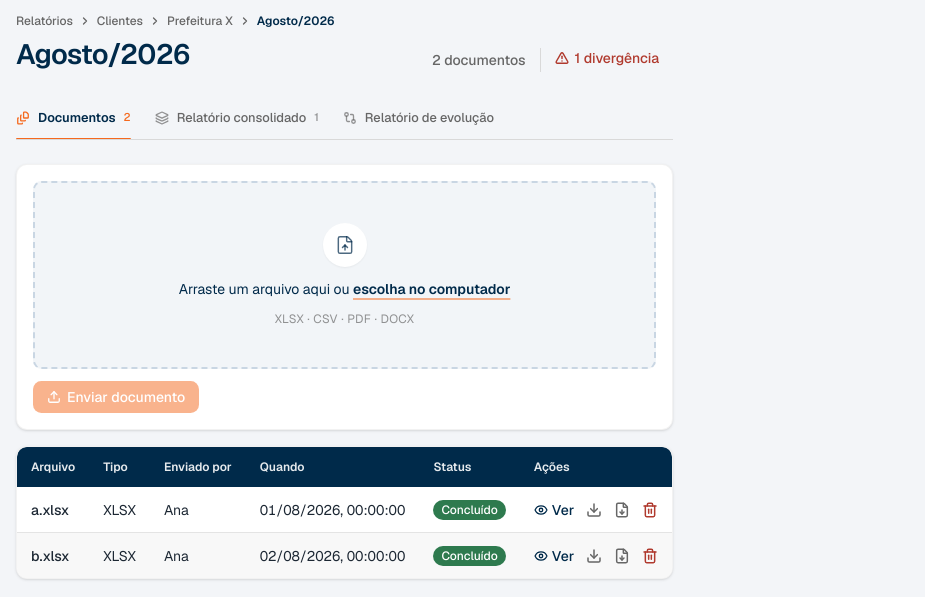
Test case: ClienteCompetenciaPage › aba Relatório Consolidado mostra o veredito e permite reabrir o seletor quando já existe relatório
Expected: the heading "Agosto/2026" is shown, [16, 37, 190, 72]
Click the button "Relatório consolidado 1" at (237, 118), box [155, 96, 319, 139]
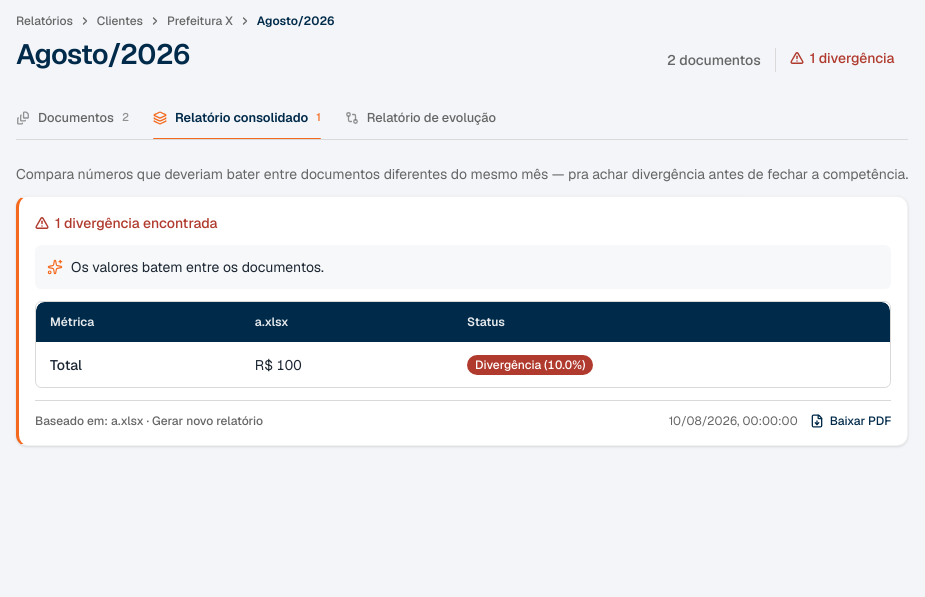
Expected: the text "1 divergência encontrada" is shown, [35, 213, 218, 233]
Click the button "Baseado em: a.xlsx · Gerar novo relatório" at (149, 421), box [35, 413, 263, 429]
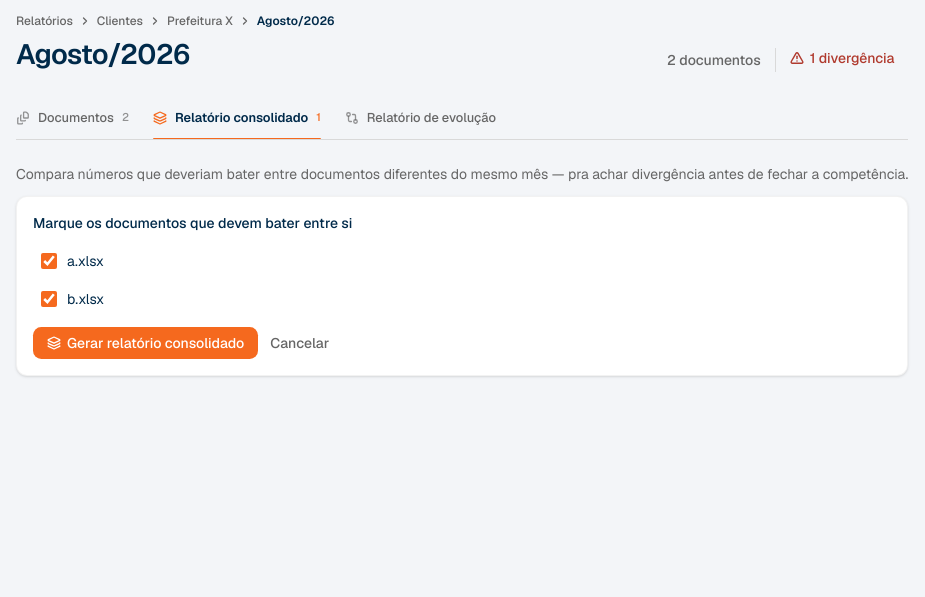
Expected: the number of checkboxes is 2, [41, 253, 57, 269]; [41, 291, 57, 307]
